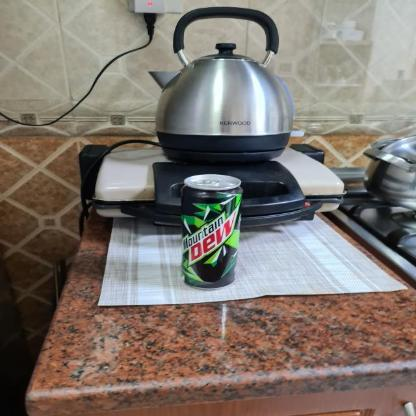Can: (175, 173, 244, 291)
